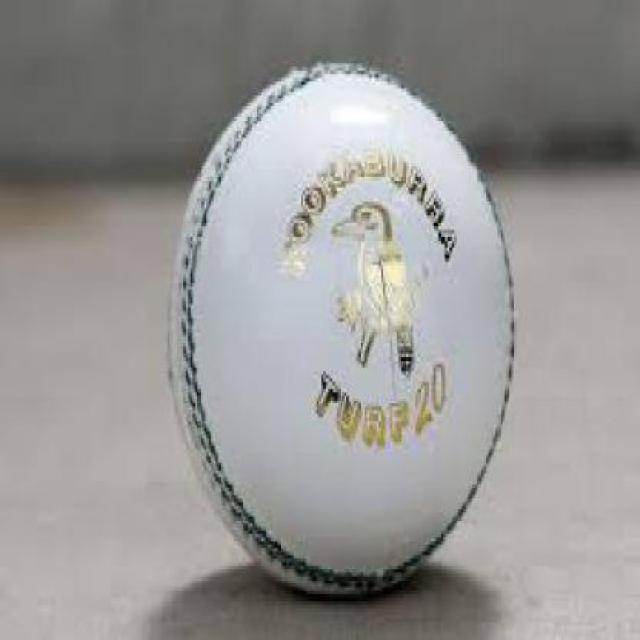ball: (143, 45, 550, 610)
